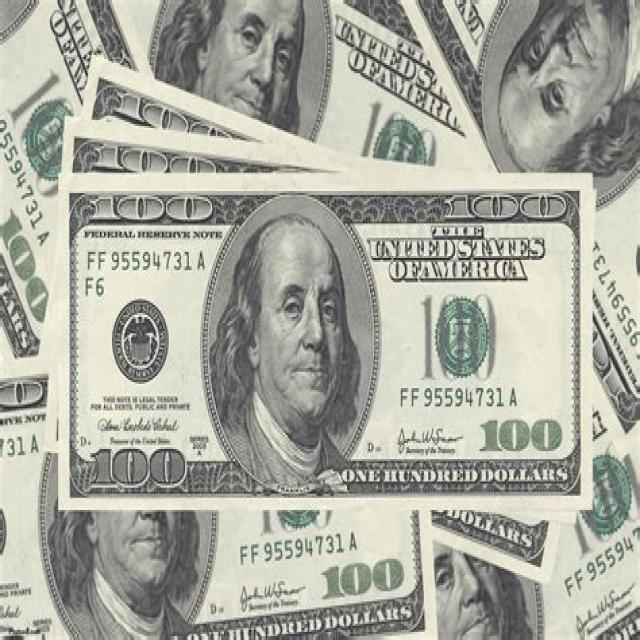Hundred: (59, 172, 593, 511), (0, 361, 440, 638), (69, 0, 497, 178), (405, 0, 640, 179)
